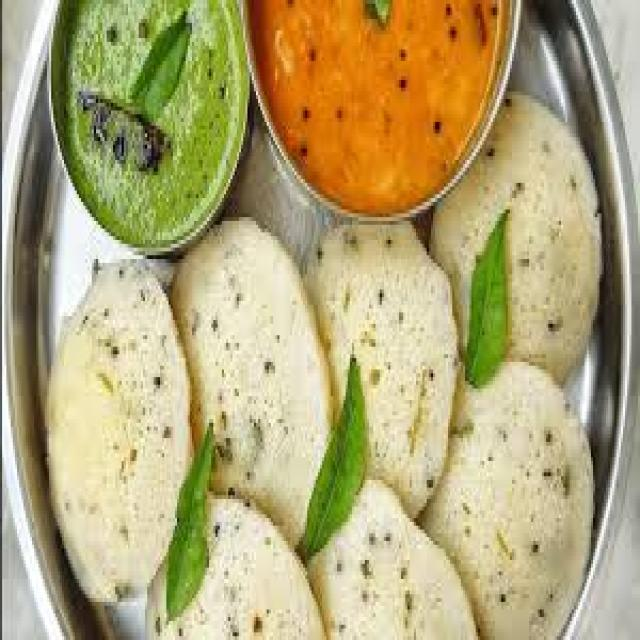IDLI: (43, 258, 188, 613), (436, 92, 604, 379), (173, 229, 326, 541), (423, 371, 596, 636), (311, 226, 450, 502), (144, 498, 327, 636), (322, 477, 475, 632)
